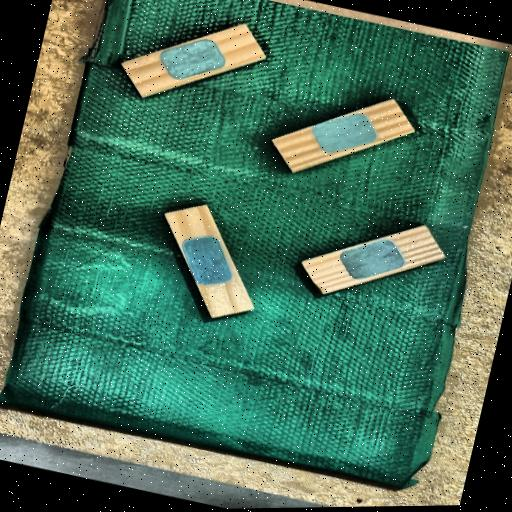objects: (164, 196, 254, 327), (271, 95, 415, 176), (120, 20, 266, 99), (301, 220, 445, 298)
